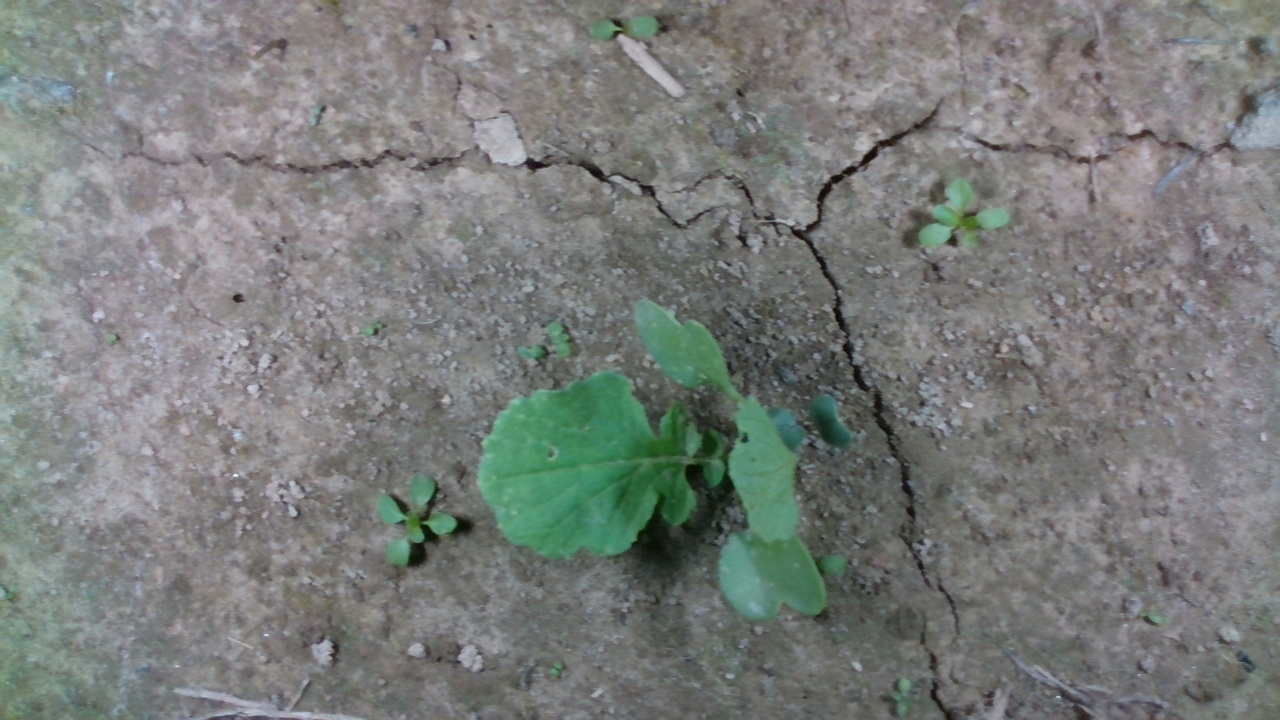weed: (588, 10, 660, 51)
